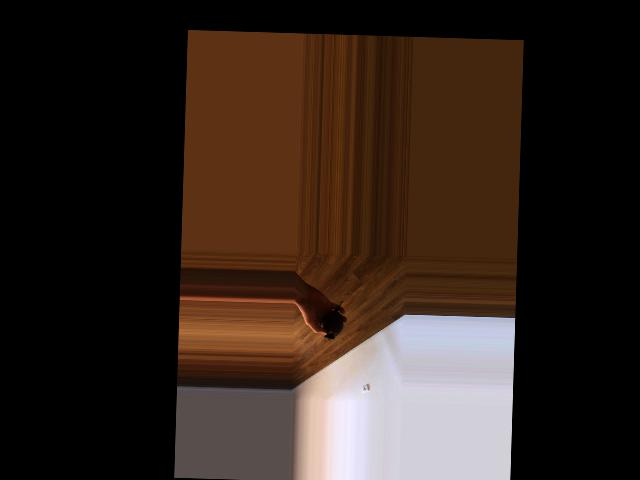beet: (320, 300, 345, 339)
